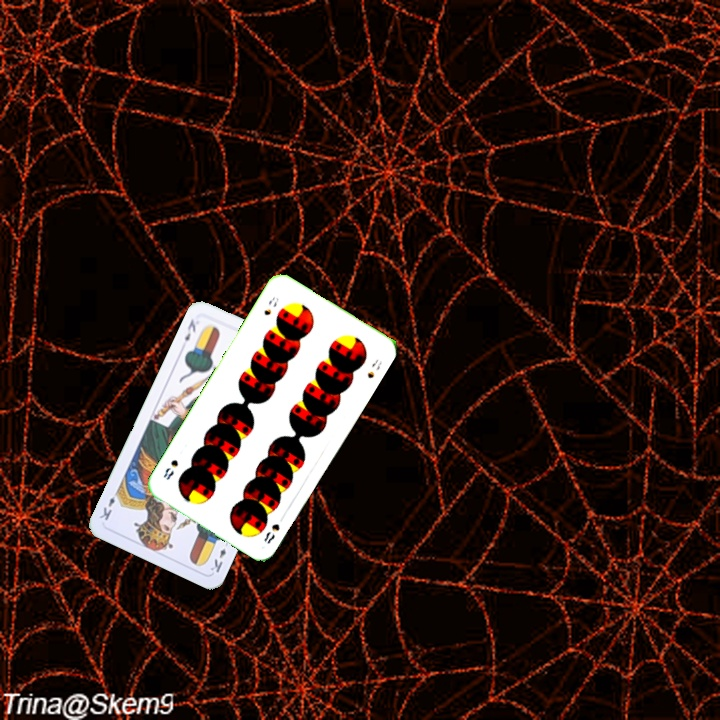EK: (206, 536, 232, 575), (180, 315, 199, 343)
S8: (260, 519, 282, 546), (260, 293, 282, 318)
